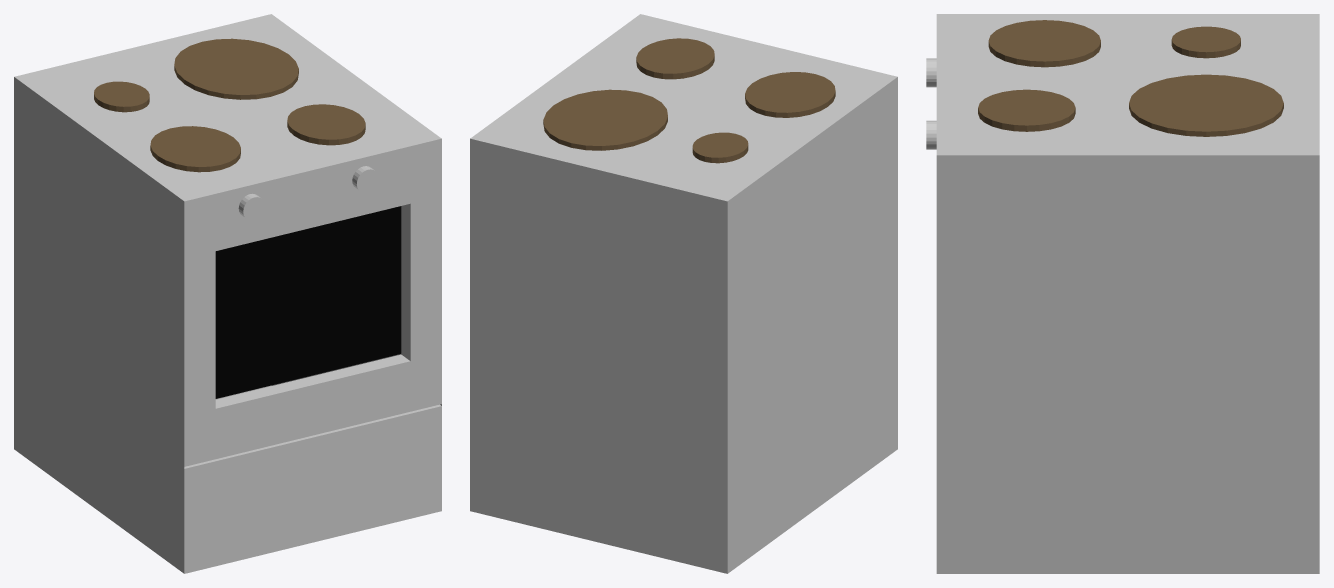
The model's file is piano_cottura_Scene.glb.
3 views of the same model, side by side, from view 1: azimuth 30°, elevation 25°; view 2: azimuth 150°, elevation 25°; view 3: azimuth 270°, elevation 25° (orthographic). The views are drawn at different scales.
Visible parts, largest first — view 1: piano_cottura_Scene; view 2: piano_cottura_Scene; view 3: piano_cottura_Scene.
Part boxes in pixels (x1,y1,x2,y2): piano_cottura_Scene: (14,14,441,573); piano_cottura_Scene: (470,14,897,573); piano_cottura_Scene: (926,14,1319,573).
Size of the model in its own units: 0.6 by 0.8422 by 0.7058.
